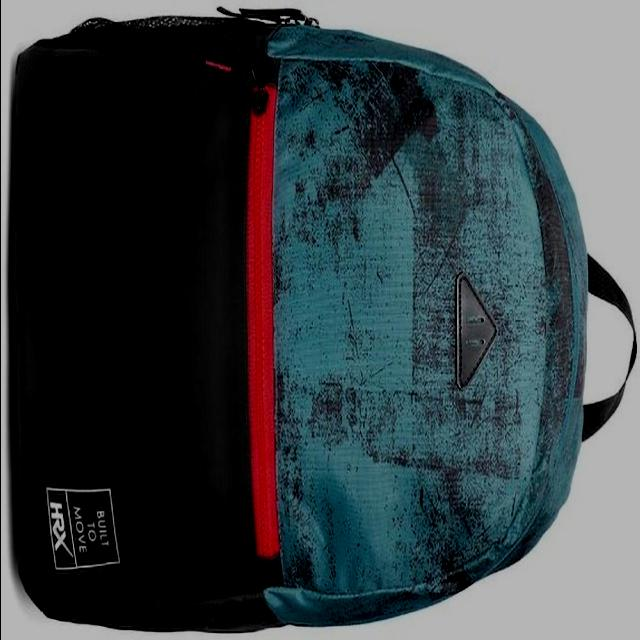backpack: (10, 7, 638, 634)
